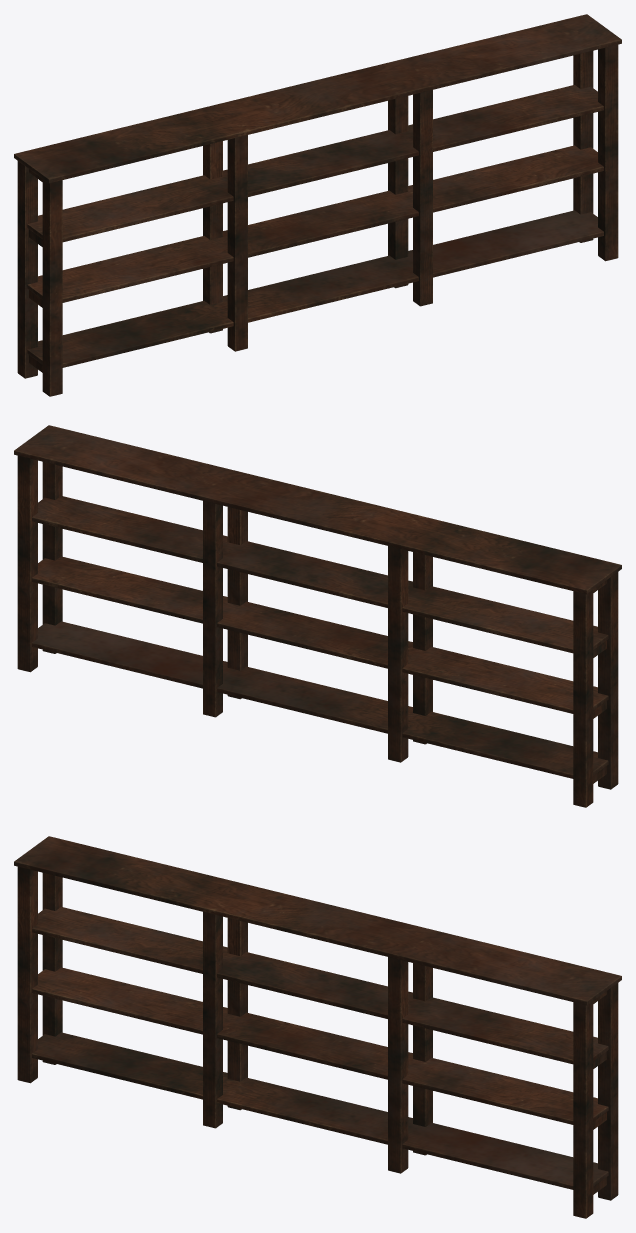
Rendered from shrine_shelf_03.fbx.
3 views of the same model, one above another, from view 1: azimuth 30°, elevation 25°; view 2: azimuth 150°, elevation 25°; view 3: azimuth 330°, elevation 25° (orthographic).
Parts seen in each view (by area): view 1: shrine_shelf_03; view 2: shrine_shelf_03; view 3: shrine_shelf_03.
Boxes of the visible parts, left/top/right/bottom form: shrine_shelf_03: left=14, top=14, right=621, bottom=396; shrine_shelf_03: left=14, top=425, right=621, bottom=807; shrine_shelf_03: left=14, top=836, right=621, bottom=1218.
Size of the model in its own units: 719 by 263 by 76.26.
Materials: 1 (1 with a texture image).
